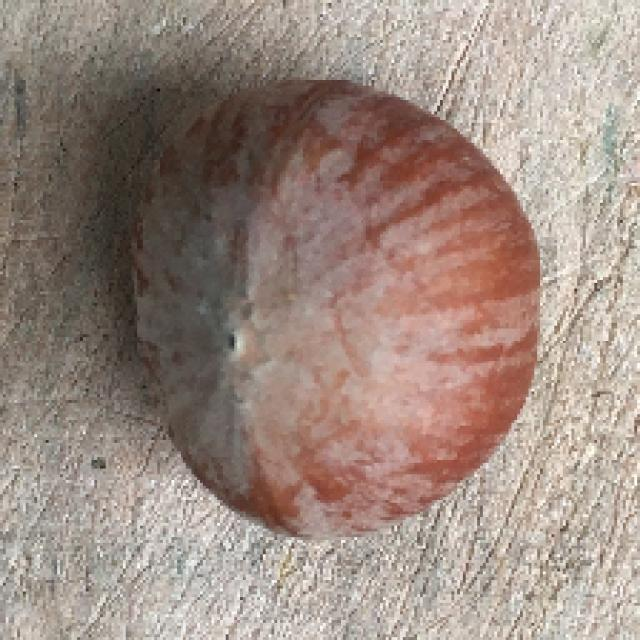hazelnut: (129, 73, 541, 531)
